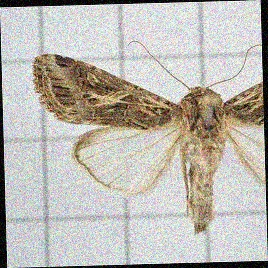Spodoptera litura: (33, 40, 264, 236)
